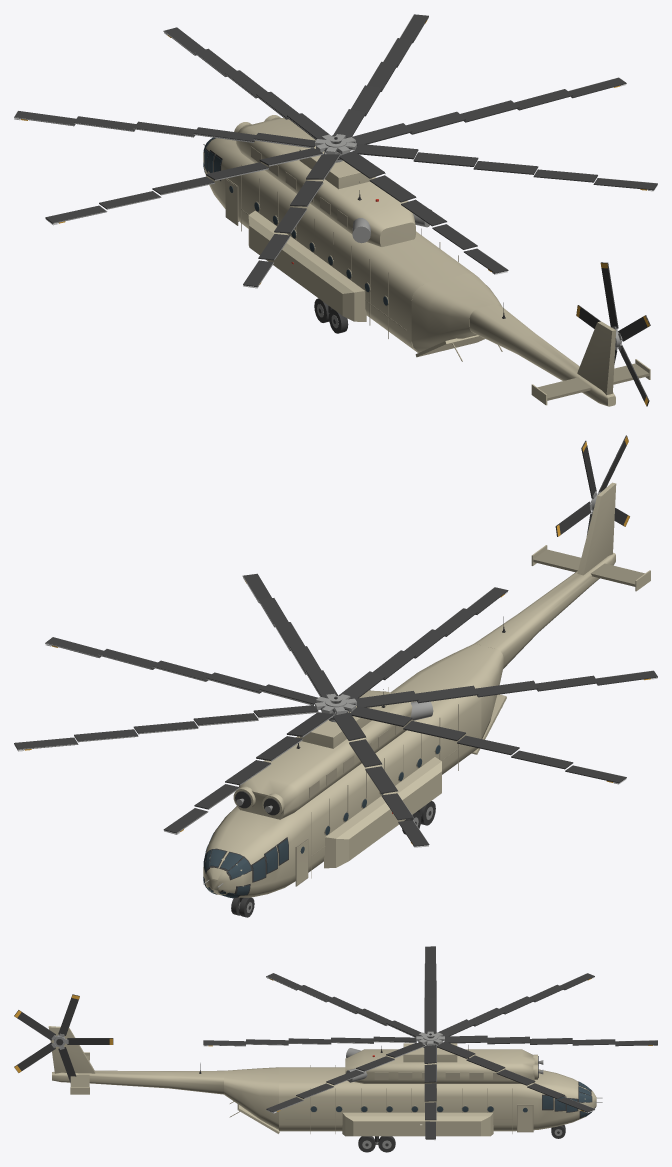
Rendered from rus_heli_mi26.glb.
3 renders of one model, top to bottom at view 1: azimuth 30°, elevation 25°; view 2: azimuth 150°, elevation 25°; view 3: azimuth 270°, elevation 25°, orthographic. The views are drawn at different scales.
Visible parts, largest first — view 1: body, rotor, trotor; view 2: body, rotor, trotor; view 3: body, rotor, trotor.
Boxes of the visible parts, box(x1,y1,x2,y2) form: body: box(203, 115, 650, 406); rotor: box(14, 14, 657, 288); trotor: box(576, 262, 650, 406); body: box(203, 482, 650, 917); rotor: box(14, 573, 657, 847); trotor: box(555, 435, 629, 536); body: box(48, 1026, 602, 1152); rotor: box(203, 946, 657, 1140); trotor: box(14, 994, 113, 1082).
Bounding box in the file's own units: 28.81 × 10.21 × 40.81.
